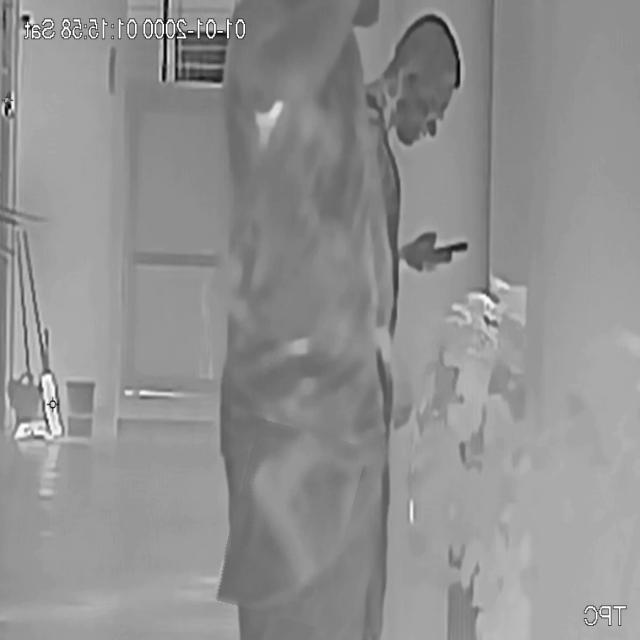Weapon: (223, 424, 357, 622)
